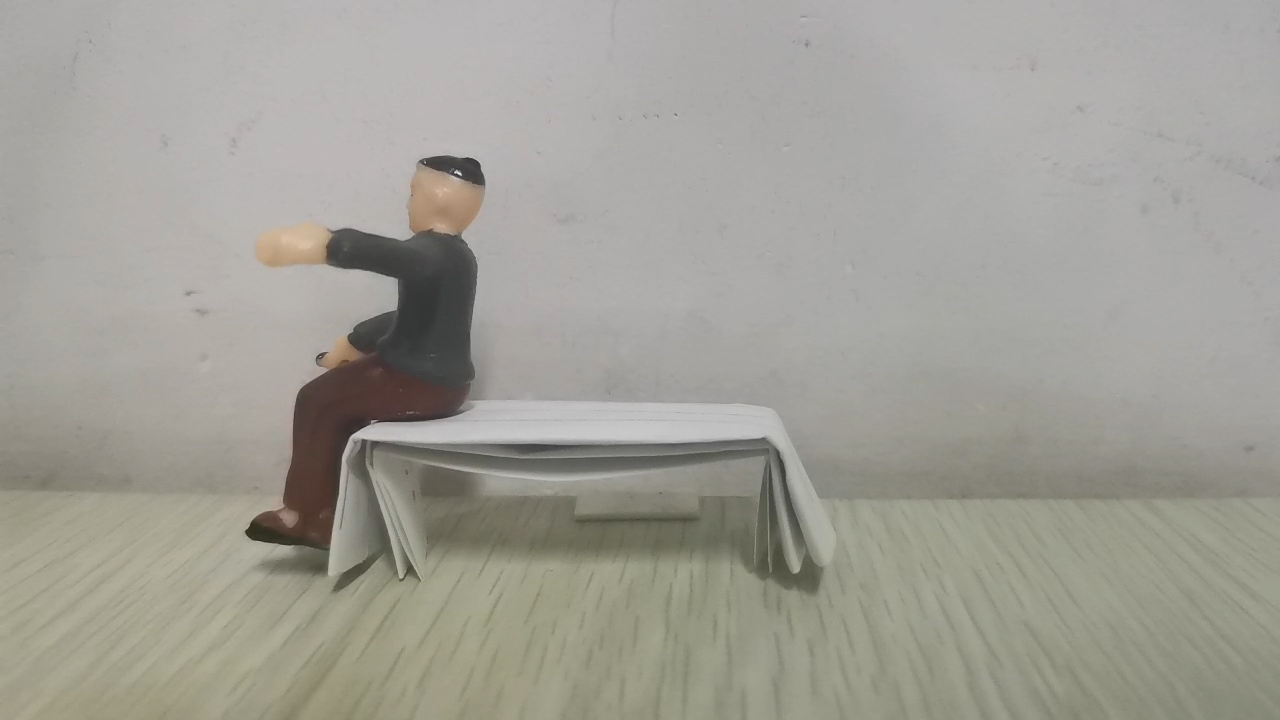person: (243, 152, 491, 552)
